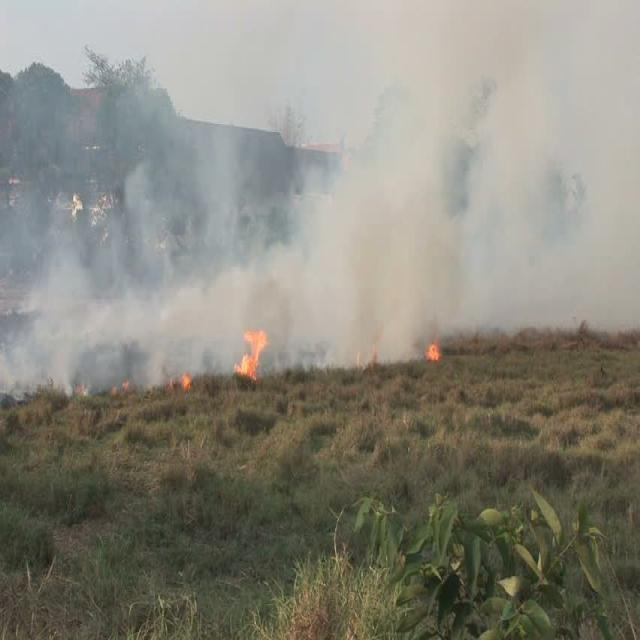Fire: (238, 324, 270, 391), (422, 338, 446, 372), (180, 367, 197, 405)
Smoke: (2, 0, 639, 388)
